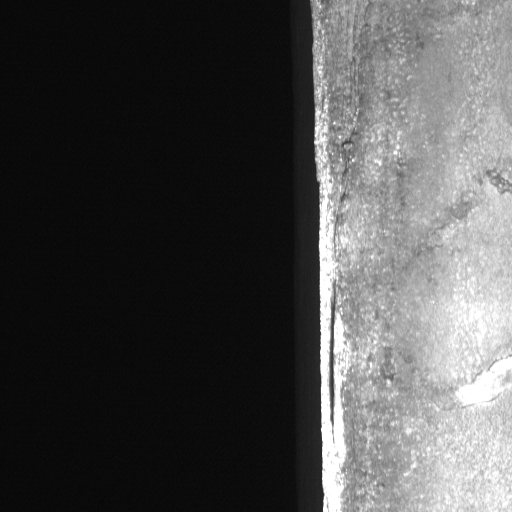aokeng: (434, 353, 512, 411)
